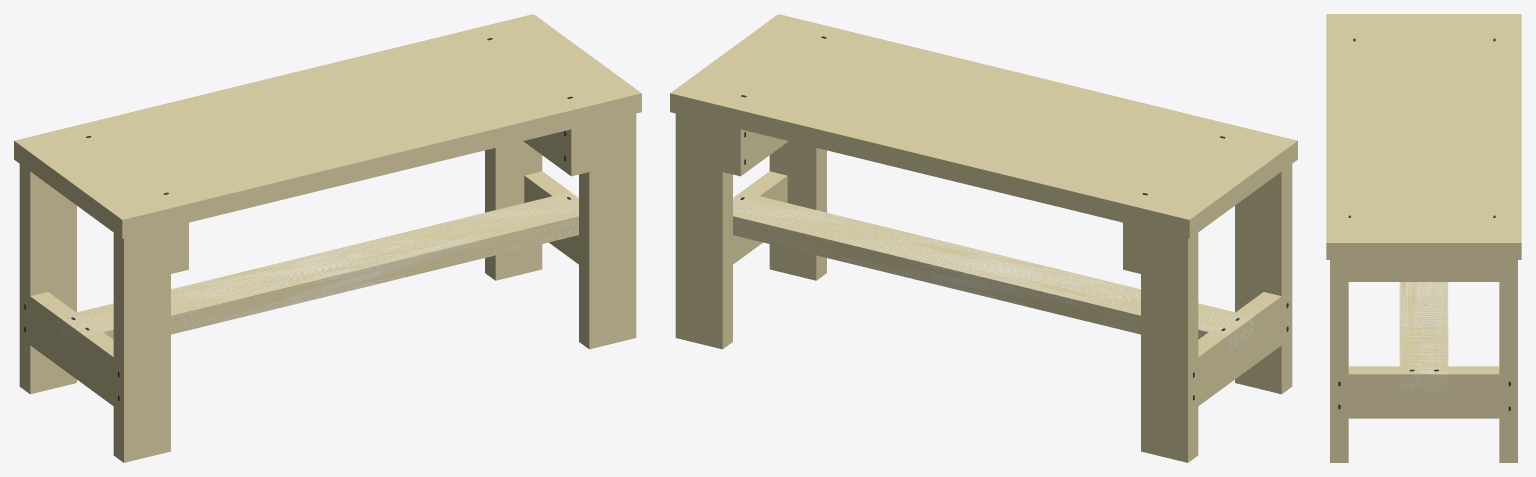
The picture shows the model from 3 angles, left to right: view 1: azimuth 30°, elevation 25°; view 2: azimuth 150°, elevation 25°; view 3: azimuth 270°, elevation 25°; orthographic projection. The views are drawn at different scales.
Parts seen in each view (by area): view 1: mesh2_mesh2-geometry, mesh9_mesh9-geometry, mesh1_mesh1-geometry, mesh3_mesh3-geometry, mesh5_mesh5-geometry, mesh4_mesh4-geometry; view 2: mesh2_mesh2-geometry, mesh9_mesh9-geometry, mesh1_mesh1-geometry, mesh3_mesh3-geometry, mesh5_mesh5-geometry, mesh4_mesh4-geometry; view 3: mesh2_mesh2-geometry, mesh5_mesh5-geometry, mesh3_mesh3-geometry, mesh9_mesh9-geometry, mesh4_mesh4-geometry.
Boxes of the visible parts, x1,y1,x2,y2 form: mesh2_mesh2-geometry: (14, 14, 641, 238); mesh9_mesh9-geometry: (58, 192, 578, 354); mesh1_mesh1-geometry: (19, 164, 170, 462); mesh3_mesh3-geometry: (485, 113, 636, 349); mesh5_mesh5-geometry: (19, 171, 636, 413); mesh4_mesh4-geometry: (171, 125, 589, 273); mesh2_mesh2-geometry: (670, 14, 1297, 238); mesh9_mesh9-geometry: (733, 192, 1253, 354); mesh1_mesh1-geometry: (1141, 164, 1292, 462); mesh3_mesh3-geometry: (675, 113, 826, 349); mesh5_mesh5-geometry: (675, 171, 1292, 413); mesh4_mesh4-geometry: (722, 125, 1140, 273); mesh2_mesh2-geometry: (1326, 14, 1521, 259); mesh5_mesh5-geometry: (1330, 366, 1517, 418); mesh3_mesh3-geometry: (1330, 260, 1517, 462); mesh9_mesh9-geometry: (1399, 282, 1448, 391); mesh4_mesh4-geometry: (1348, 260, 1499, 281).
Size of the model in its own units: 0.8654 by 0.3916 by 0.3125.
